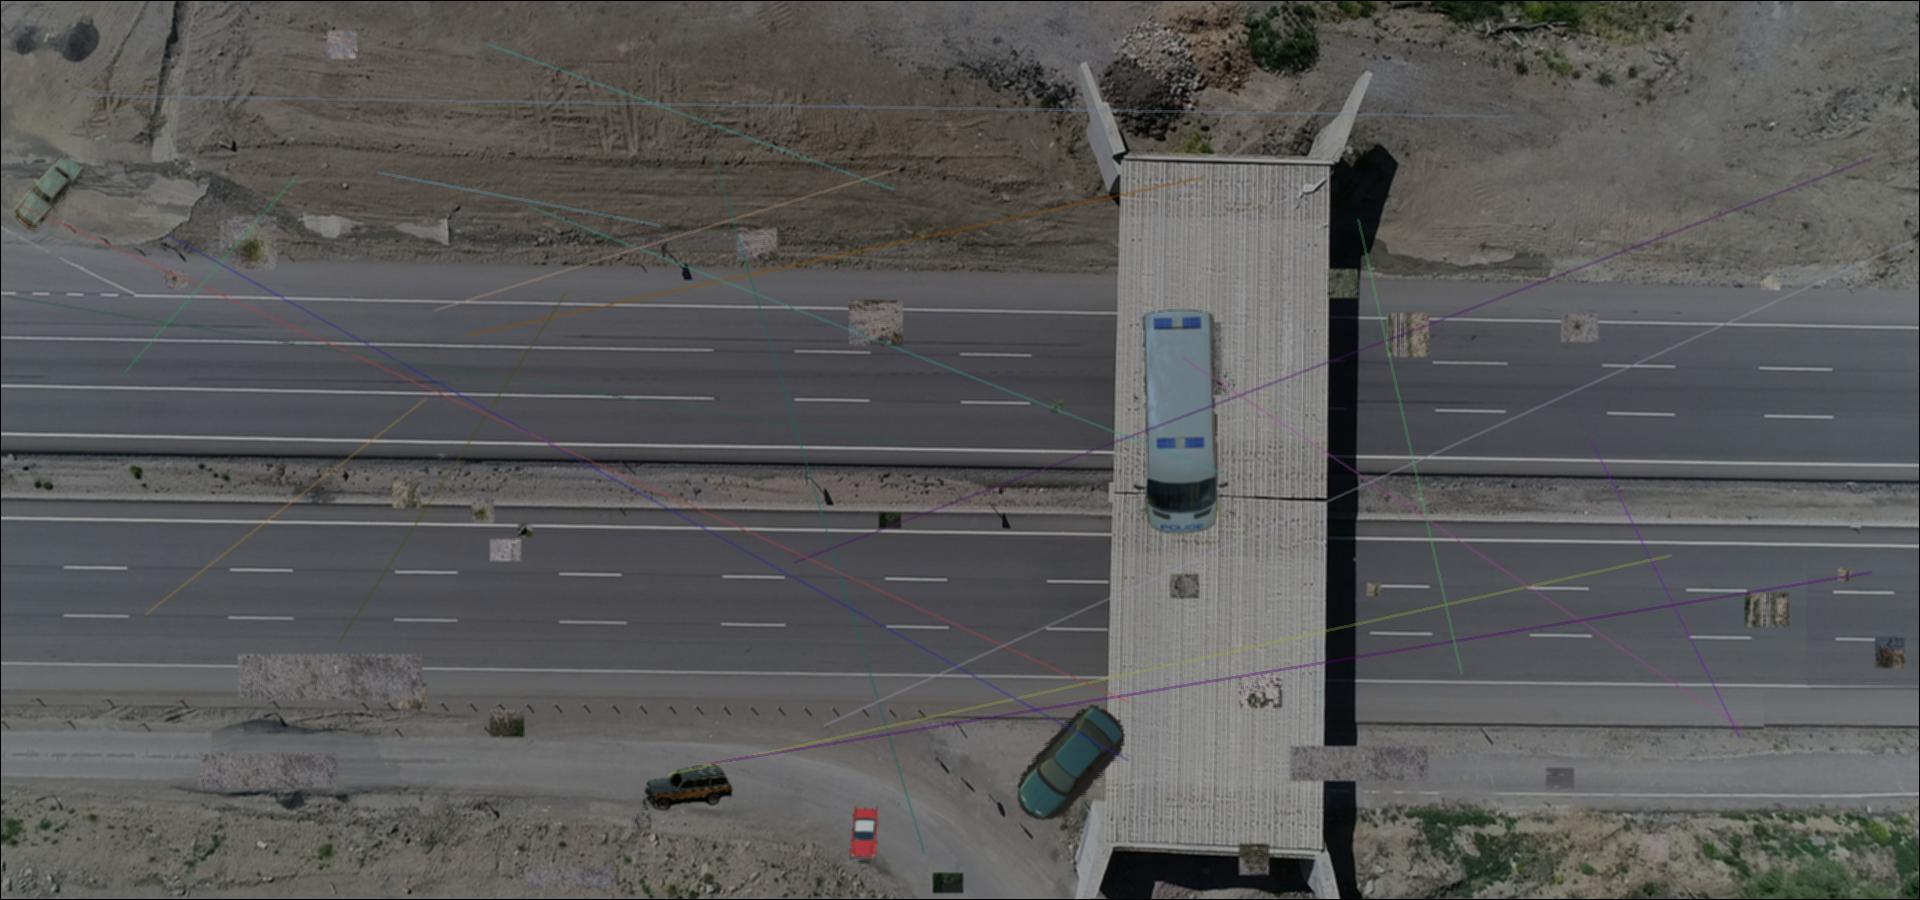arac: (1134, 307, 1236, 535), (1018, 699, 1127, 820), (15, 149, 84, 229), (640, 763, 732, 811), (849, 804, 878, 864)
